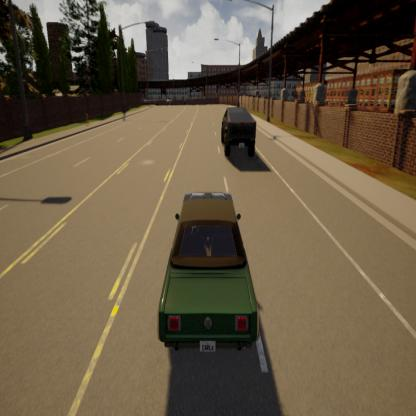Cars: (157, 190, 258, 355), (221, 105, 256, 162)
Pedestrian: (84, 109, 90, 125)
